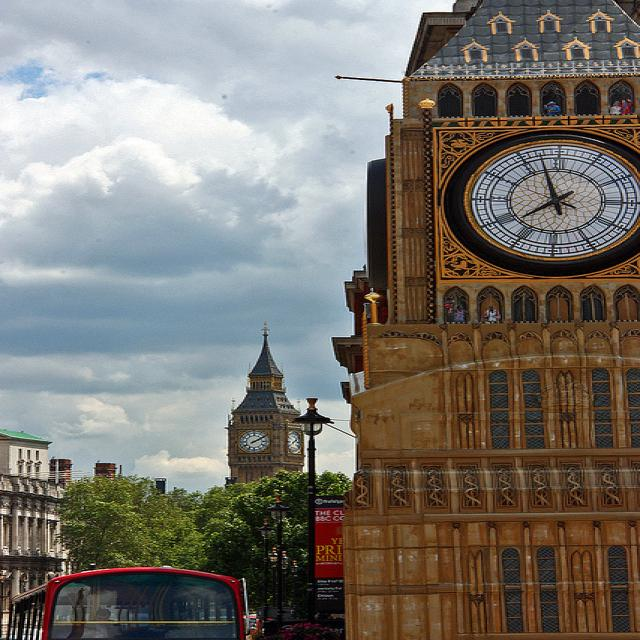Vehicle: (7, 565, 250, 640)
